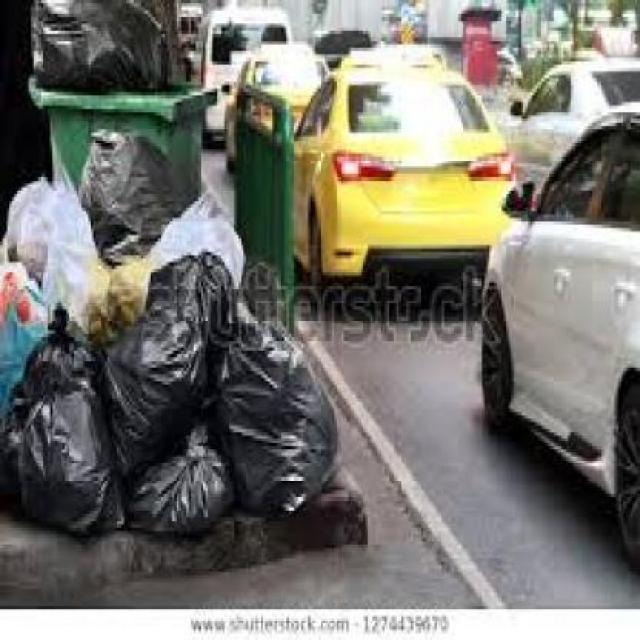garbage: (0, 0, 255, 255), (151, 351, 402, 548), (0, 255, 177, 530)
